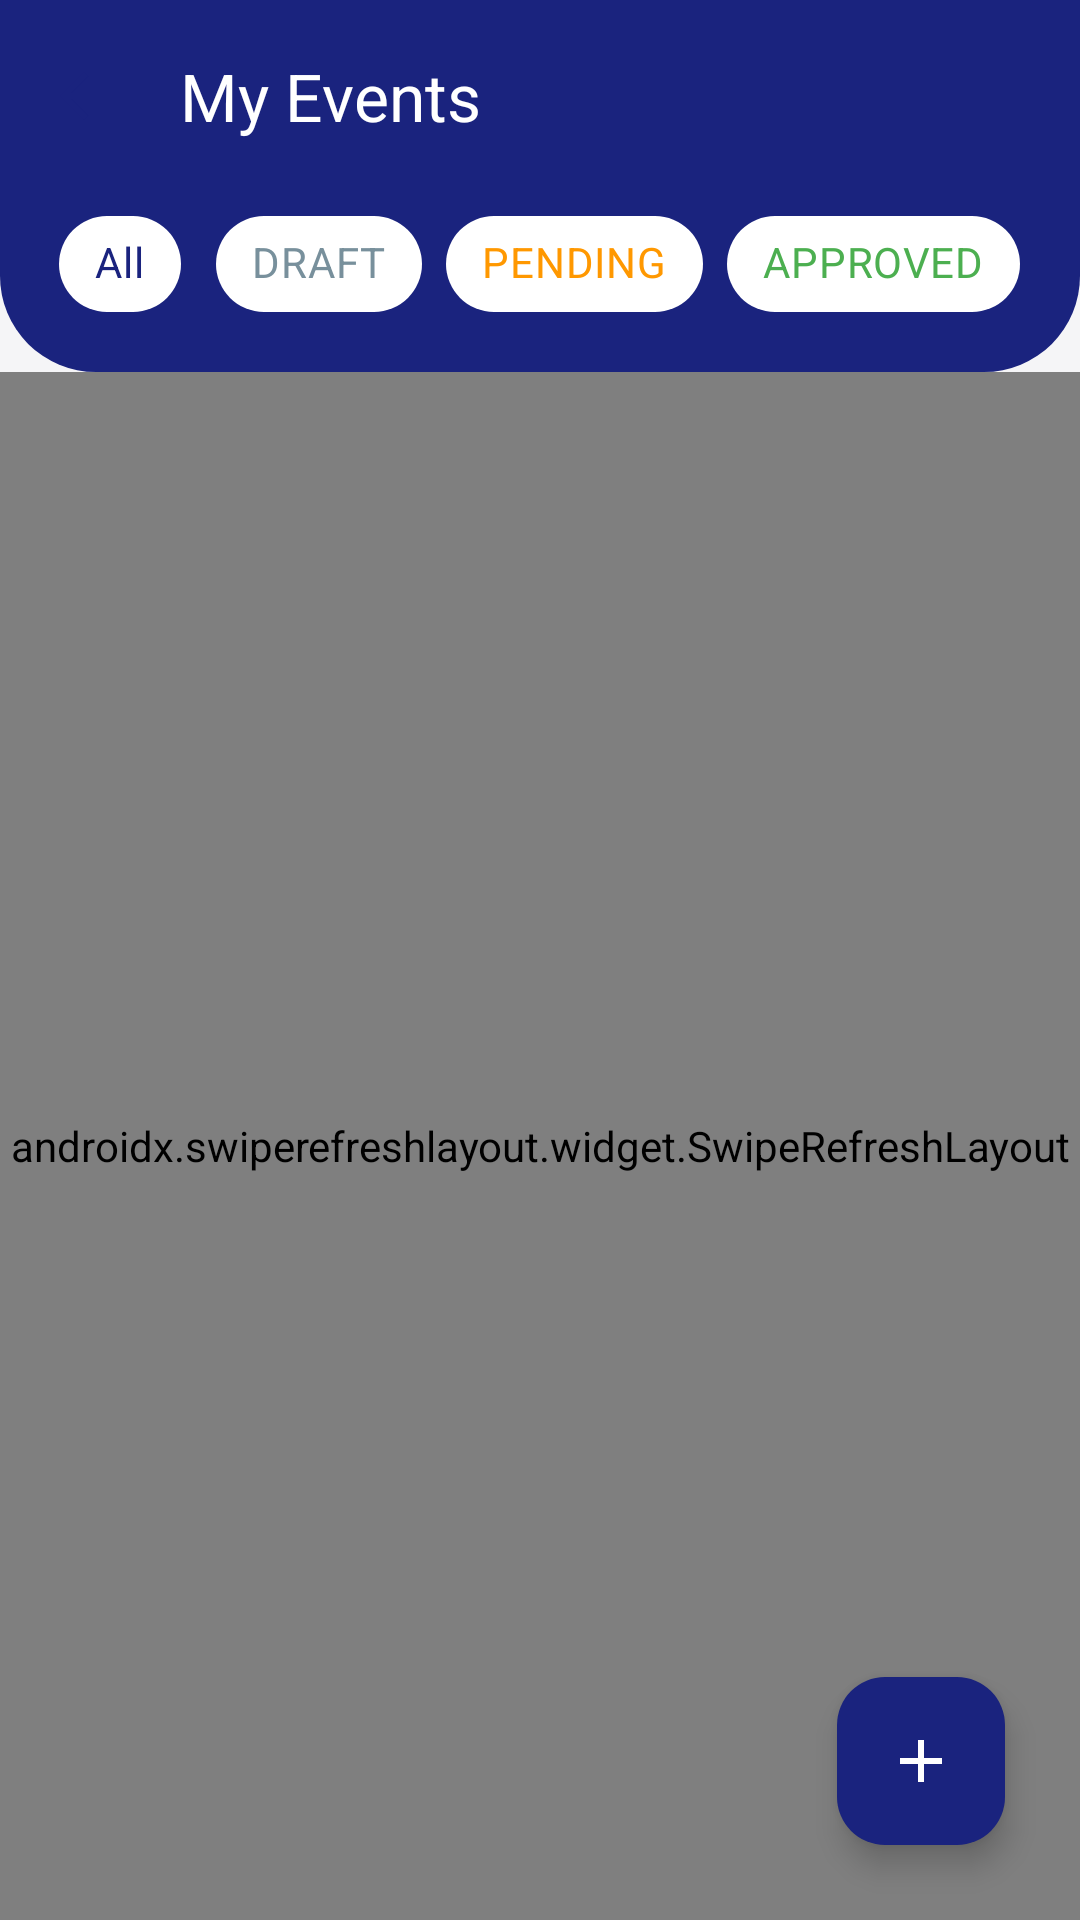

Screen size 1080 x 1920. Icon name, then its box in pixels as (x1, y1, x2, y2):
Create Event: (837, 1677, 1005, 1845)
